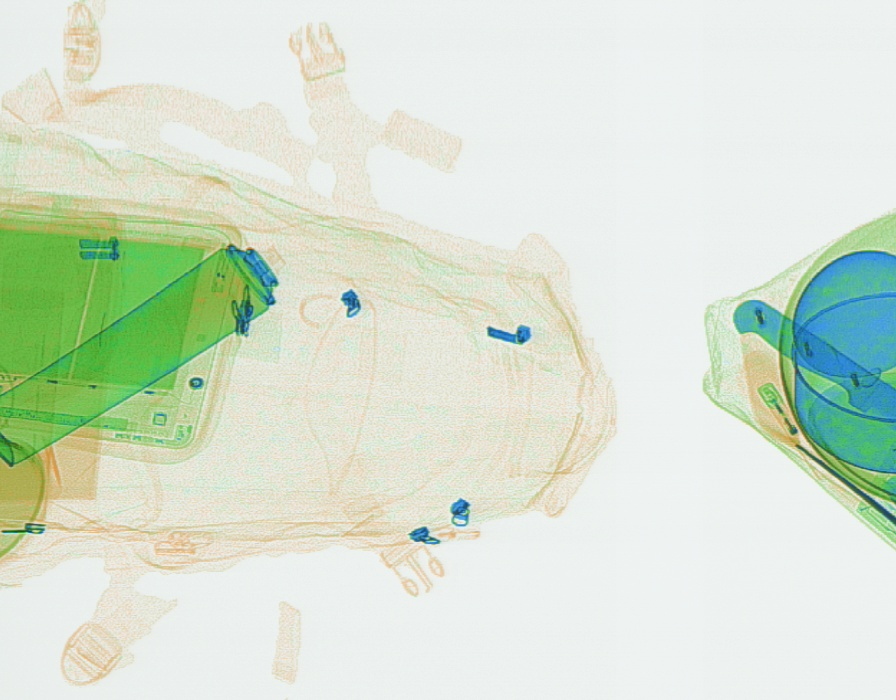knife: (731, 301, 894, 417)
lighter: (755, 384, 815, 470)
pressure: (2, 242, 273, 475)
